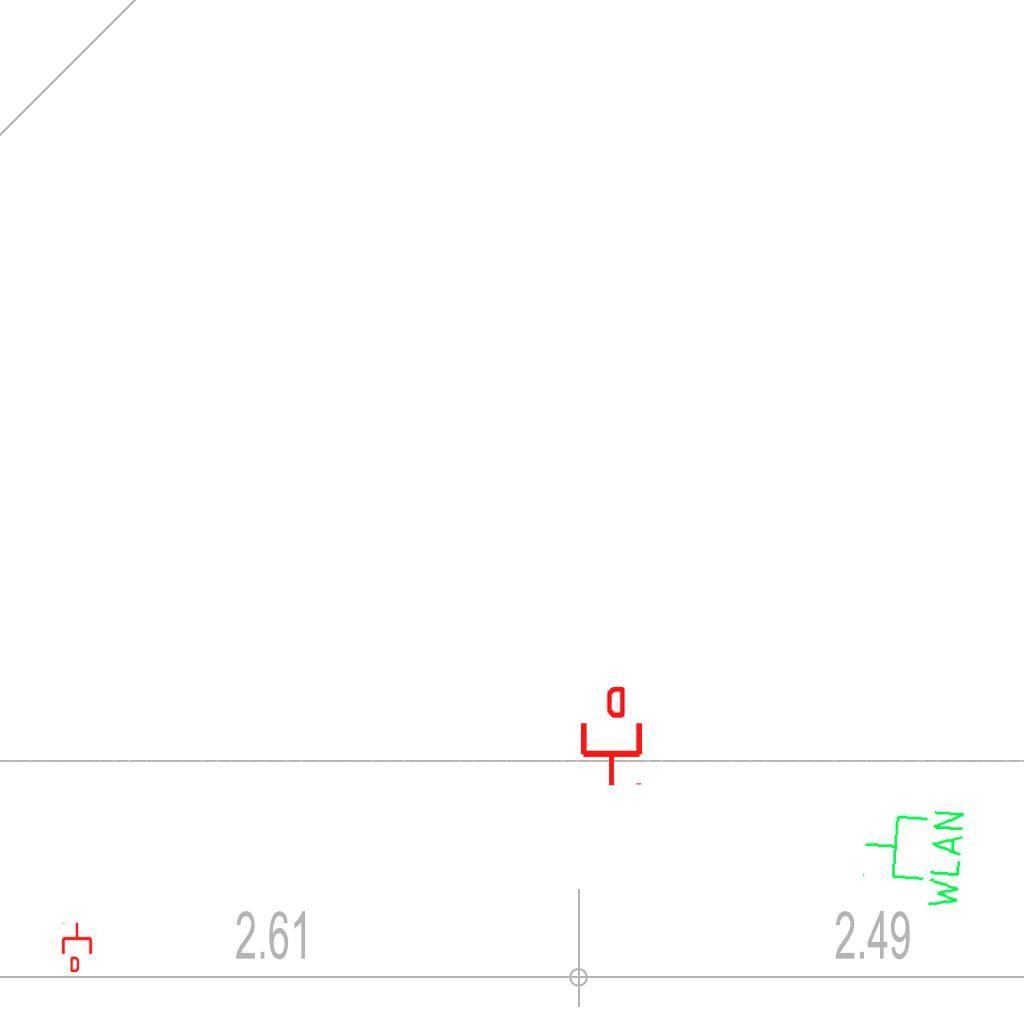Datenanschluss_einfach: (577, 687, 646, 787), (60, 922, 94, 972)
WLAN: (857, 801, 969, 914)
